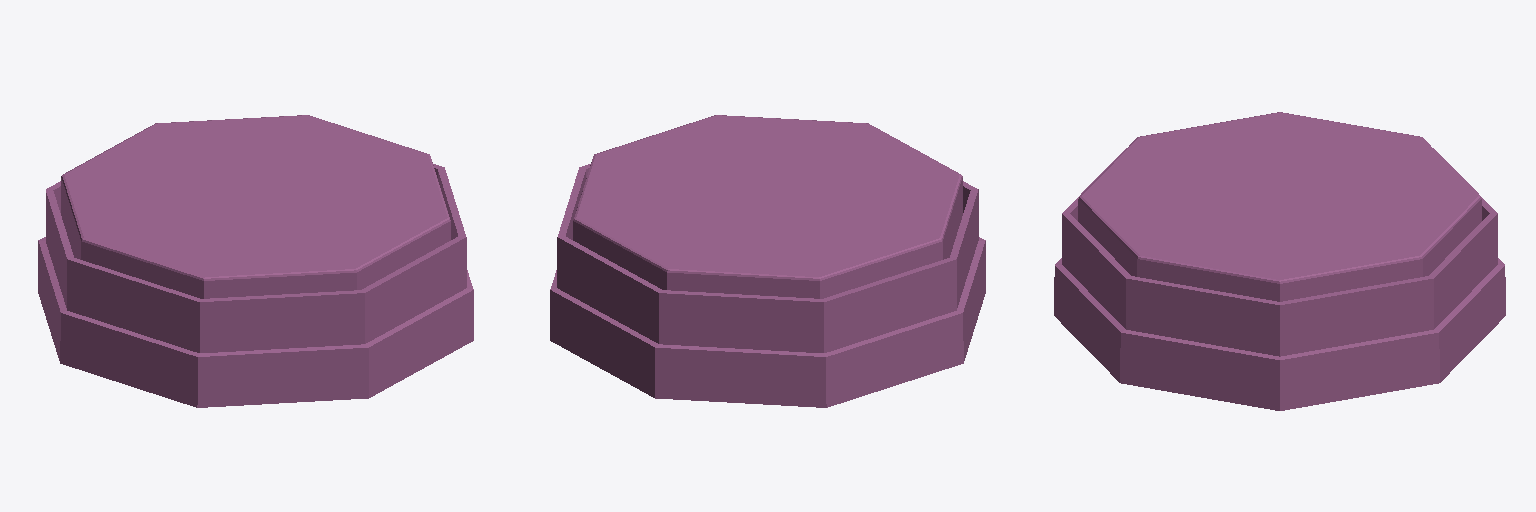
File: Button_straight.obj
3 views of the same model, side by side, from view 1: azimuth 30°, elevation 25°; view 2: azimuth 150°, elevation 25°; view 3: azimuth 270°, elevation 25° (orthographic).
Parts seen in each view (by area): view 1: Circle_straight; view 2: Circle_straight; view 3: Circle_straight.
Part boxes in pixels (x1,y1,x2,y2): Circle_straight: (38, 115, 473, 407); Circle_straight: (550, 115, 985, 407); Circle_straight: (1054, 112, 1505, 410).
Bounding box in the file's own units: 4.72 × 1.38 × 4.72.